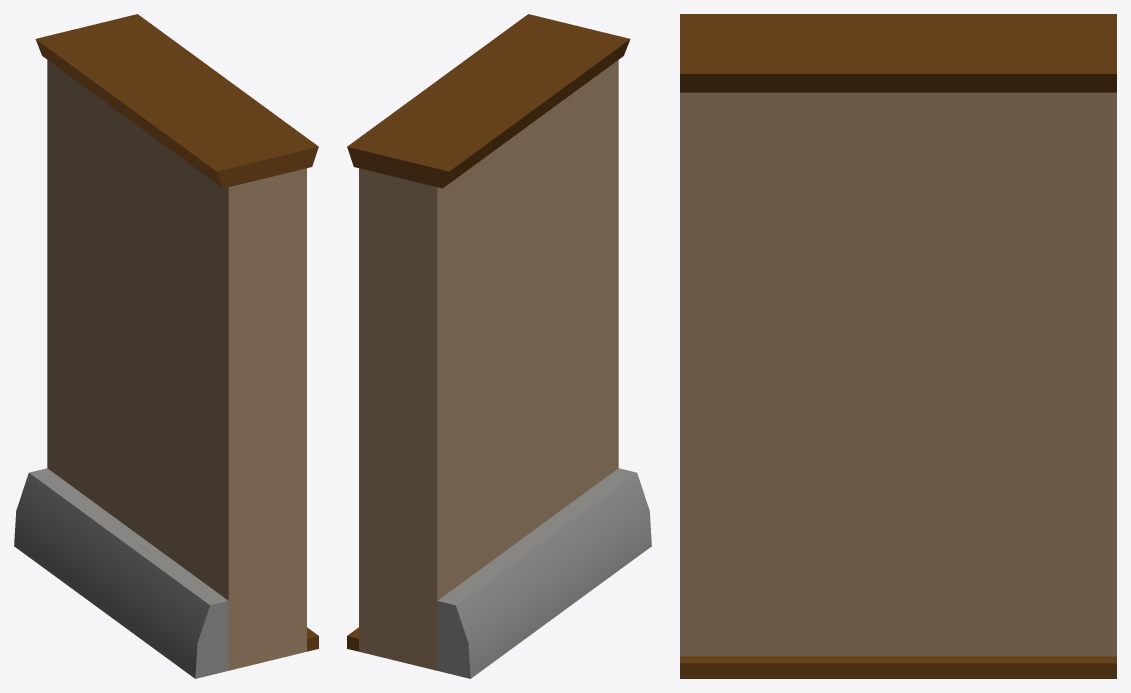
Rendered from SM_Wall.fbx.
3 views of the same model, side by side, from view 1: azimuth 30°, elevation 25°; view 2: azimuth 150°, elevation 25°; view 3: azimuth 270°, elevation 25° (orthographic). The views are drawn at different scales.
Parts seen in each view (by area): view 1: SM_Wall; view 2: SM_Wall; view 3: SM_Wall.
Boxes of the visible parts, x1,y1,x2,y2 form: SM_Wall: [14, 14, 318, 678]; SM_Wall: [347, 14, 651, 678]; SM_Wall: [680, 14, 1116, 678].
Size of the model in its own units: 78.71 by 306 by 200.
